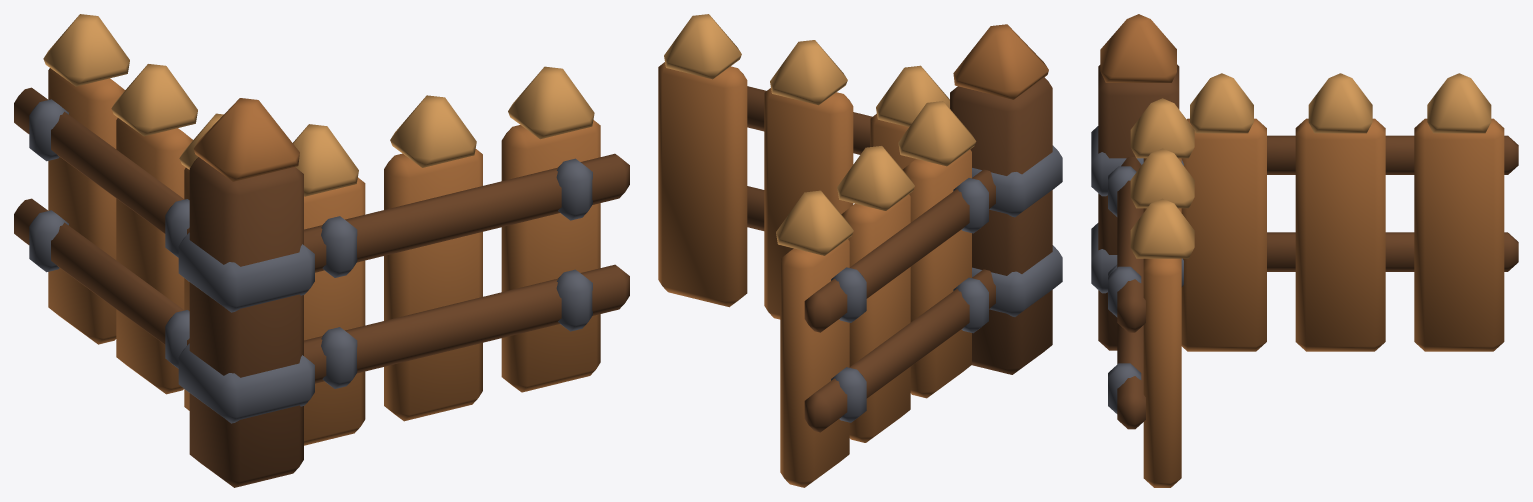
Rendered from B_MedFenceCorner.fbx.
3 views of the same model, side by side, from view 1: azimuth 30°, elevation 25°; view 2: azimuth 150°, elevation 25°; view 3: azimuth 270°, elevation 25° (orthographic). The views are drawn at different scales.
Visible parts, largest first — view 1: M_FenceCorner; view 2: M_FenceCorner; view 3: M_FenceCorner.
Part boxes in pixels (x1=…): M_FenceCorner: x1=14, y1=14, x2=629, y2=487; M_FenceCorner: x1=658, y1=14, x2=1062, y2=487; M_FenceCorner: x1=1091, y1=14, x2=1518, y2=487.
Bounding box in the file's own units: 1.8 × 1.48 × 1.8.
1 material, 1 textured.
